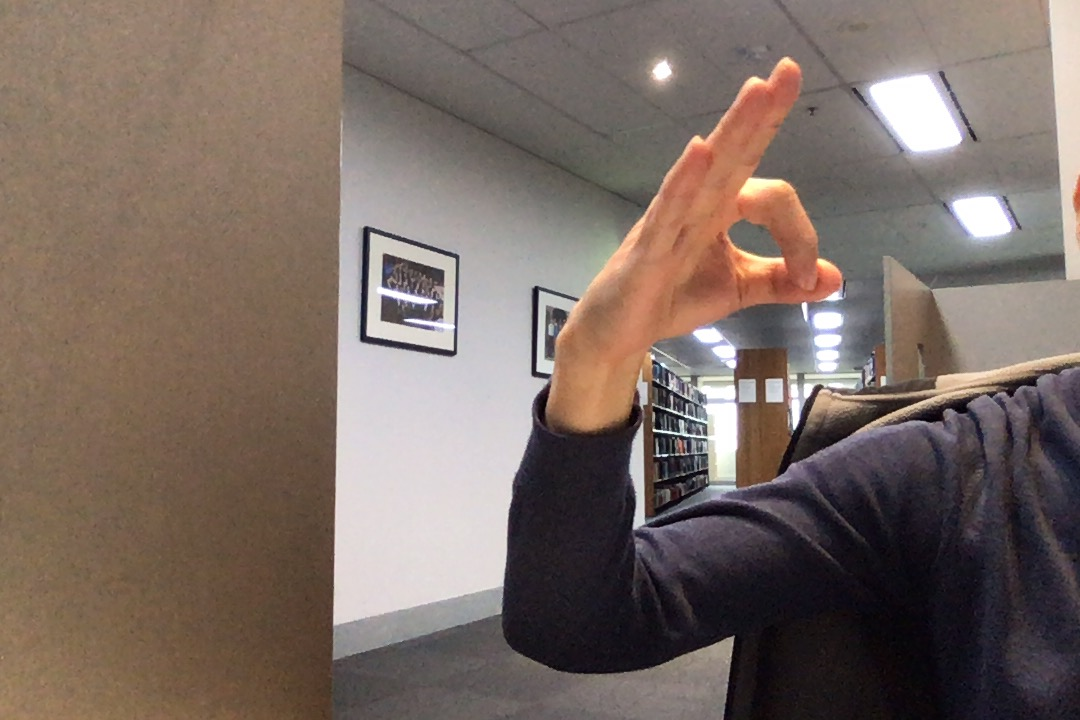oksign: (576, 52, 848, 356)
